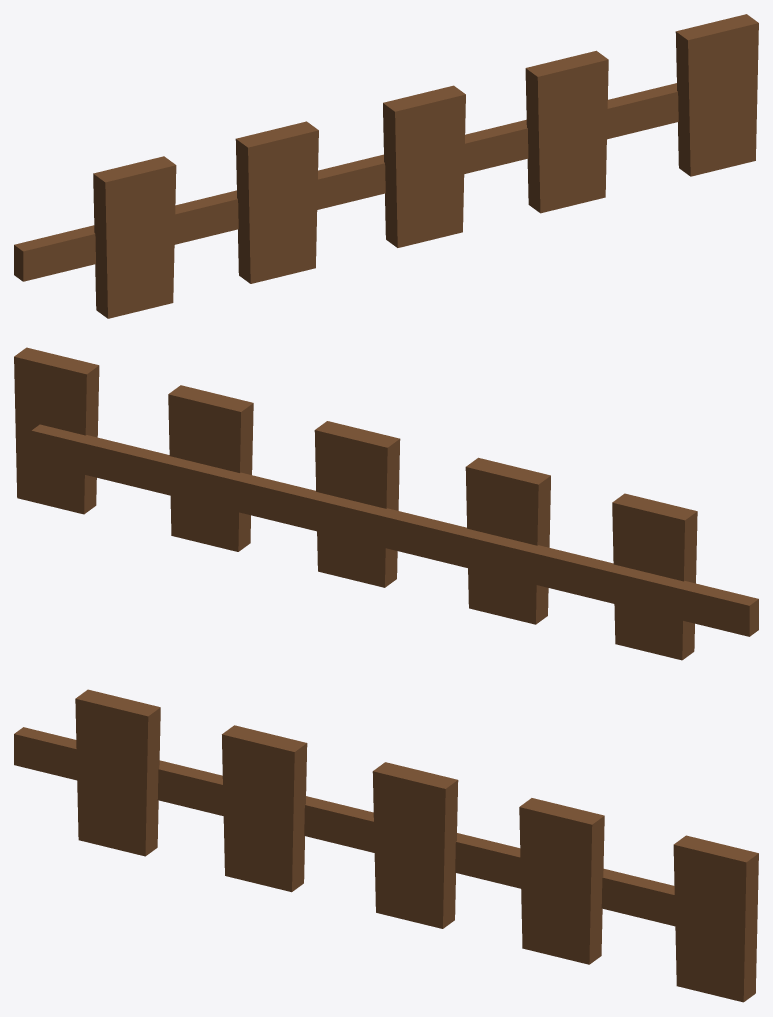
The model's file is fence01_s03.FBX.
3 views of the same model, one above another, from view 1: azimuth 30°, elevation 25°; view 2: azimuth 150°, elevation 25°; view 3: azimuth 330°, elevation 25° (orthographic). The views are drawn at different scales.
Parts seen in each view (by area): view 1: fence01_s03; view 2: fence01_s03; view 3: fence01_s03.
Part boxes in pixels (box(x1,y1,x2,y2)): fence01_s03: box(14, 14, 758, 318); fence01_s03: box(14, 347, 758, 660); fence01_s03: box(14, 689, 758, 1002).
Size of the model in its own units: 589 by 28.73 by 107.
Materials: 1 (1 with a texture image).
